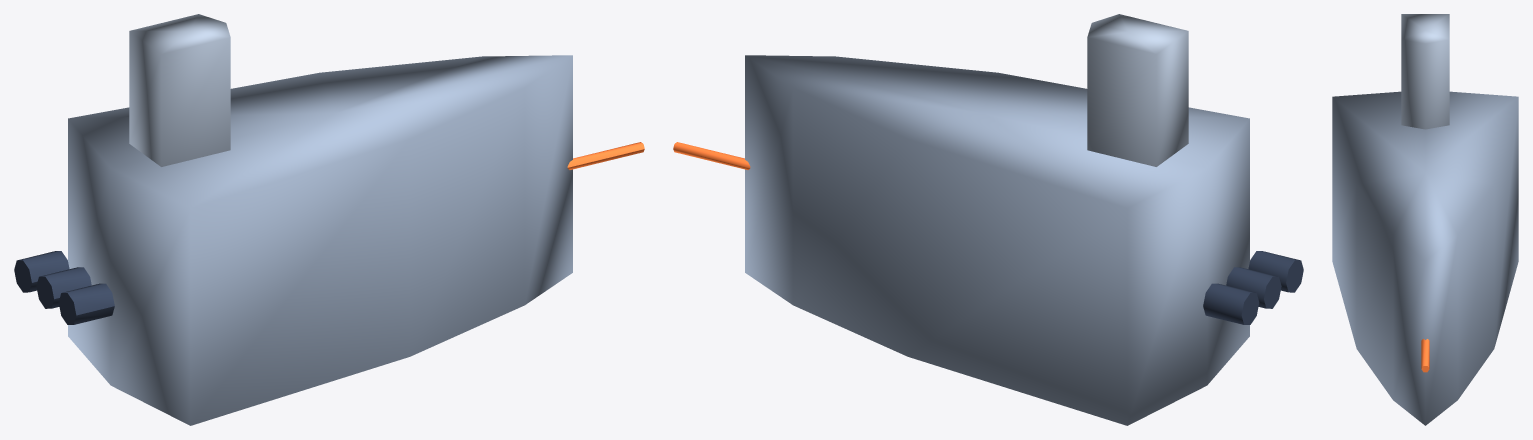
File: broadside-ship.glb
The picture shows the model from 3 angles, left to right: view 1: azimuth 30°, elevation 25°; view 2: azimuth 150°, elevation 25°; view 3: azimuth 270°, elevation 25°; orthographic projection. The views are drawn at different scales.
Parts seen in each view (by area): view 1: hull, tower, dark, gun; view 2: hull, tower, dark, gun; view 3: hull, tower, gun.
Part boxes in pixels (<box>): hull: <box>68,55,572,425</box>; tower: <box>129,14,230,166</box>; dark: <box>14,251,114,324</box>; gun: <box>567,142,644,169</box>; hull: <box>745,55,1249,425</box>; tower: <box>1087,14,1188,166</box>; dark: <box>1203,251,1303,324</box>; gun: <box>673,142,750,169</box>; hull: <box>1332,91,1518,425</box>; tower: <box>1401,14,1449,129</box>; gun: <box>1421,339,1429,372</box>.
Bounding box in the file's own units: 7.75 × 4.15 × 2.76.
